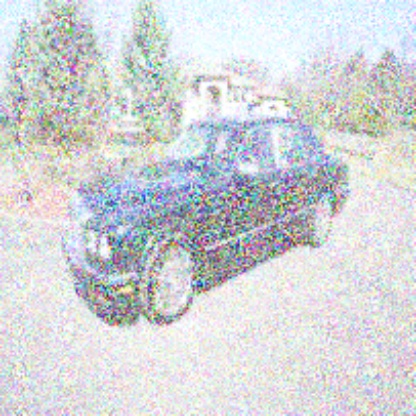Vehicle: (65, 116, 351, 327)
